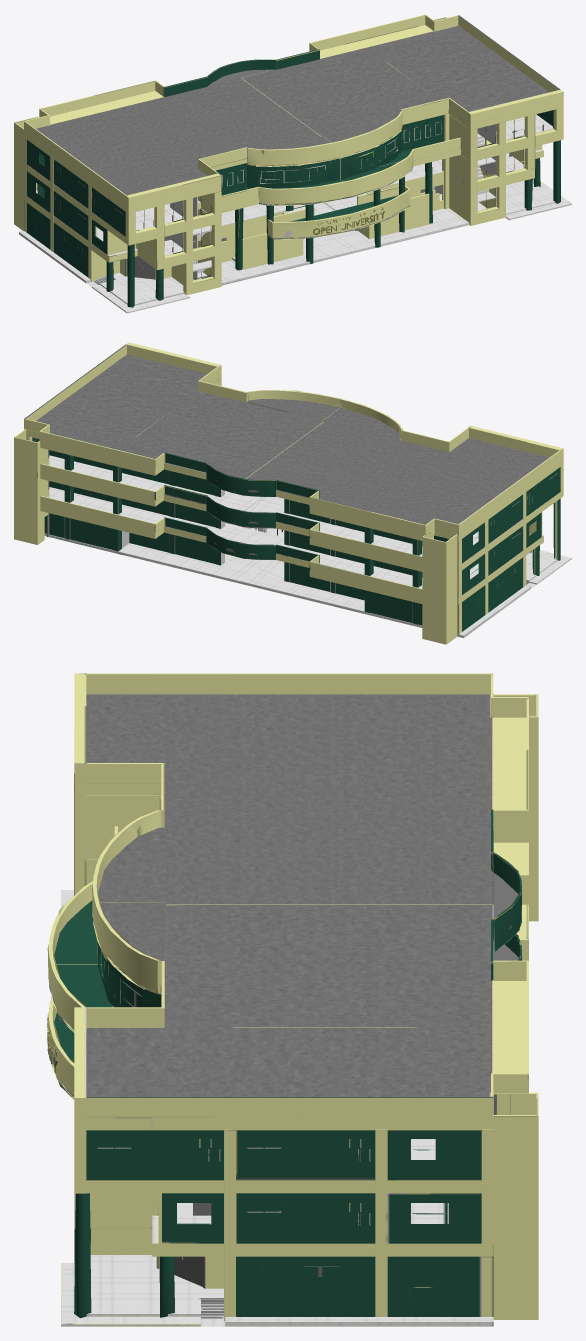
The model's file is Main Bldg Corrected Spelling_Baked_L2.fbx.
3 views of the same model, one above another, from view 1: azimuth 30°, elevation 25°; view 2: azimuth 150°, elevation 25°; view 3: azimuth 270°, elevation 25° (orthographic). The views are drawn at different scales.
Visible parts, largest first — view 1: Cube.118; view 2: Cube.118; view 3: Cube.118.
Boxes of the visible parts, bbox=[...] form: Cube.118: bbox=[14, 14, 571, 313]; Cube.118: bbox=[14, 342, 571, 644]; Cube.118: bbox=[47, 673, 538, 1326].
Bounding box in the file's own units: 4639 × 1121 × 2220.
